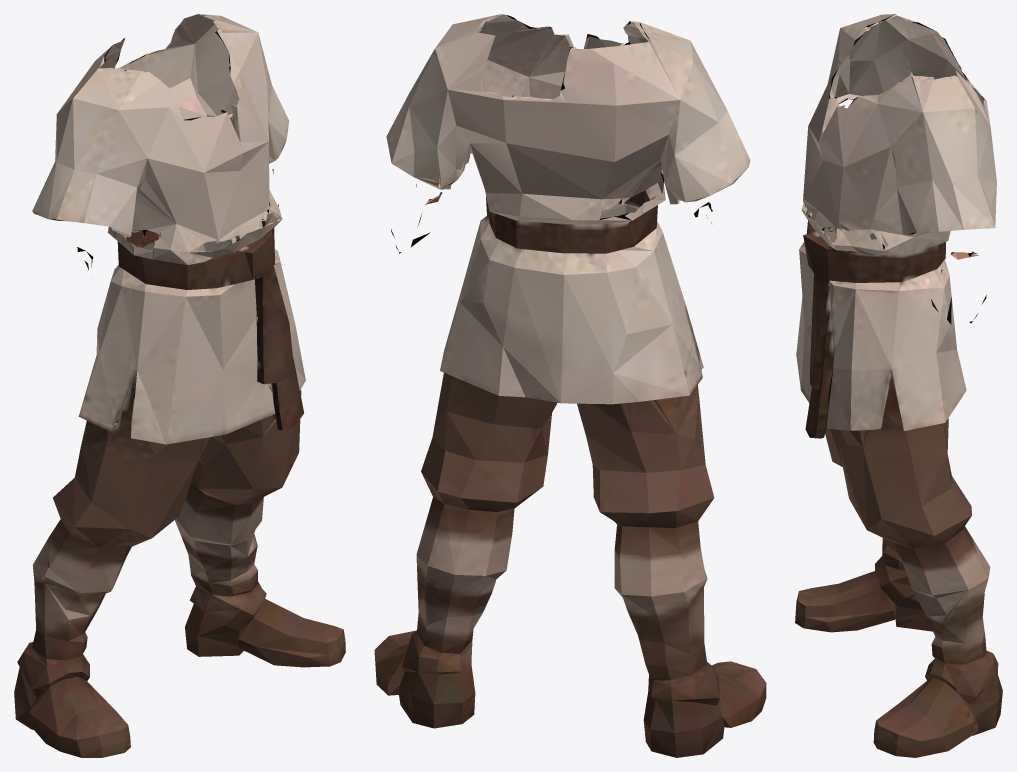
File: Clothing_cream-tunic_LOD2.glb
3 renders of one model, left to right at view 1: azimuth 30°, elevation 25°; view 2: azimuth 150°, elevation 25°; view 3: azimuth 270°, elevation 25°, orthographic. The views are drawn at different scales.
Visible parts, largest first — view 1: cream-tunic_cloth, cream-tunic_skirt, cream-tunic_footwear; view 2: cream-tunic_cloth, cream-tunic_skirt, cream-tunic_footwear; view 3: cream-tunic_cloth, cream-tunic_skirt, cream-tunic_footwear.
Boxes of the visible parts, x1,y1,x2,y2 form: cream-tunic_cloth: (32,14,303,635); cream-tunic_skirt: (78,235,305,444); cream-tunic_footwear: (14,533,345,757); cream-tunic_cloth: (386,14,750,653); cream-tunic_skirt: (440,203,703,404); cream-tunic_footwear: (374,578,766,757); cream-tunic_cloth: (801,14,996,642); cream-tunic_skirt: (796,228,966,430); cream-tunic_footwear: (795,538,1002,757).
Bounding box in the file's own units: 0.7784 × 1.49 × 0.4458.
1 material, 1 textured.
